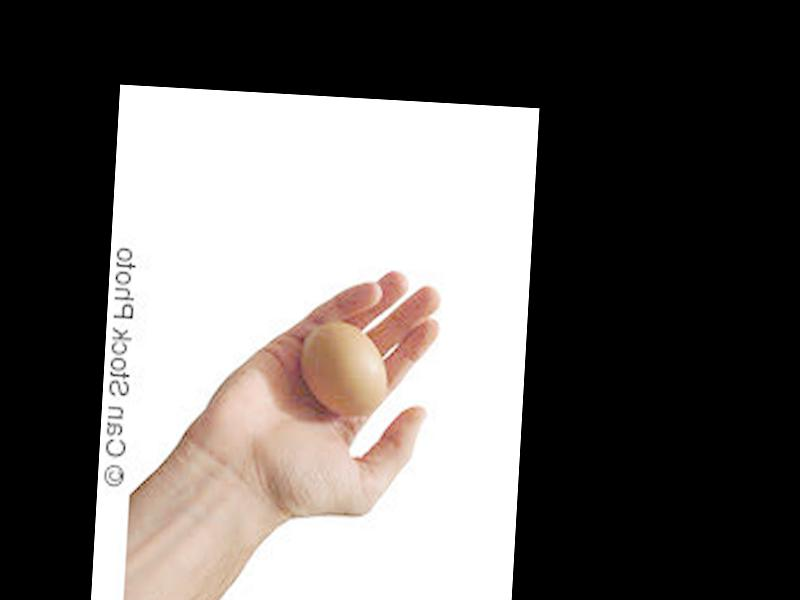Eggs: (299, 319, 386, 414)
